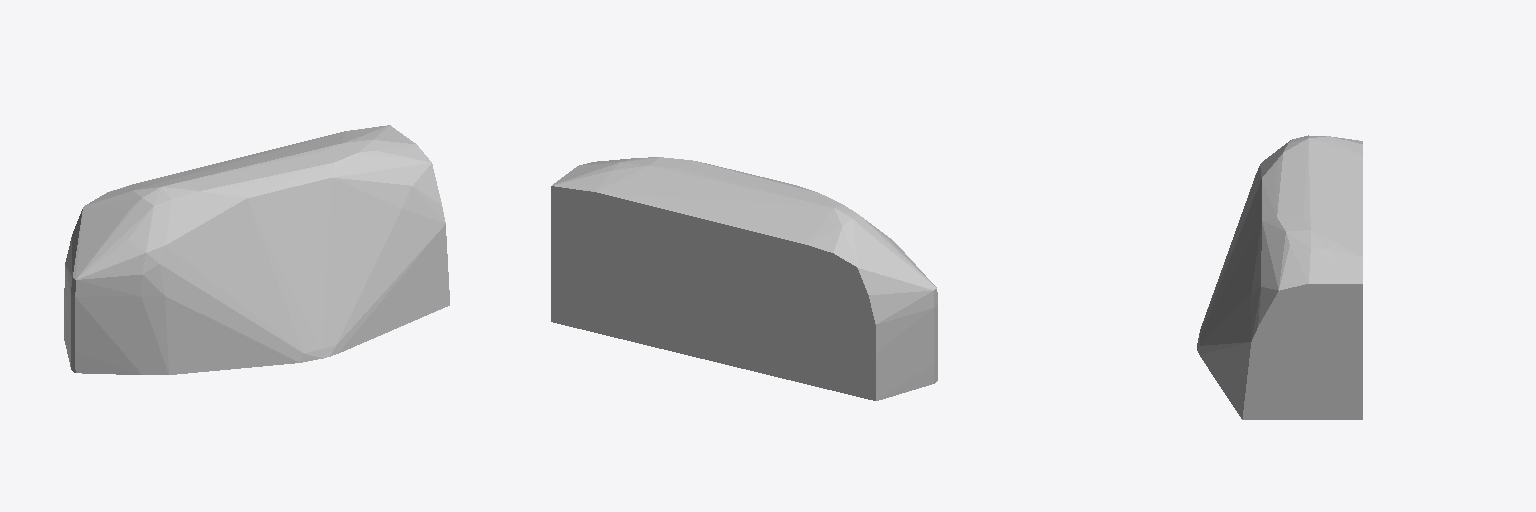
Rendered from ShipScene_collision_20.obj.
3 views of the same model, side by side, from view 1: azimuth 30°, elevation 25°; view 2: azimuth 150°, elevation 25°; view 3: azimuth 270°, elevation 25° (orthographic).
Size of the model in its own units: 67.25 by 28.69 by 27.63.